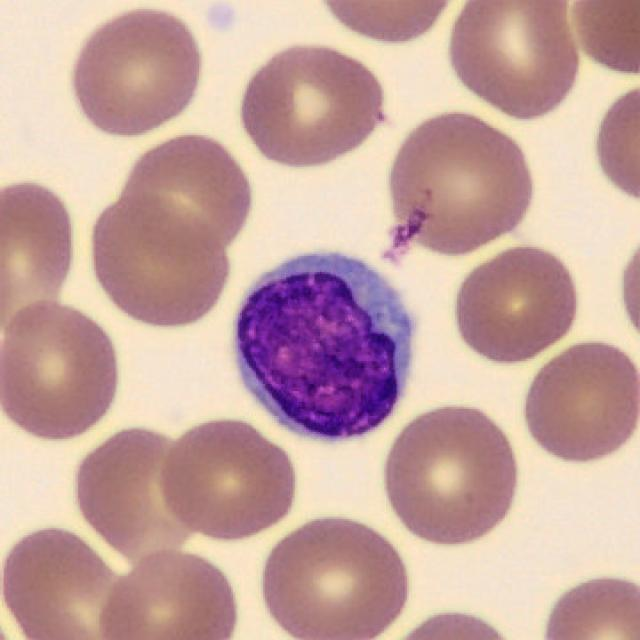Linfocito: (233, 258, 412, 441)
